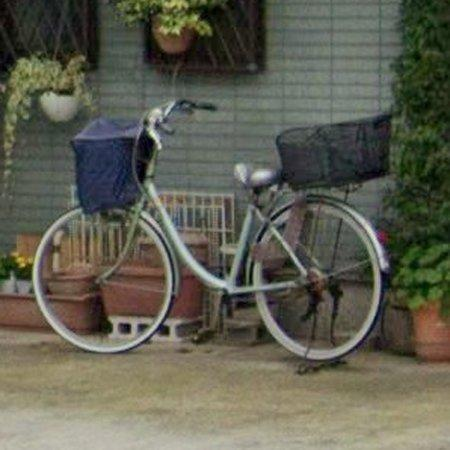bicycles: (33, 100, 390, 361)
